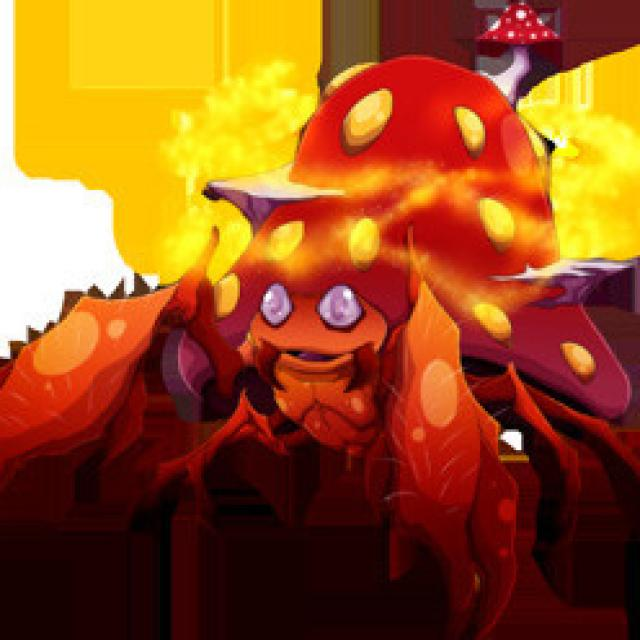Parasect: (149, 79, 562, 564)
